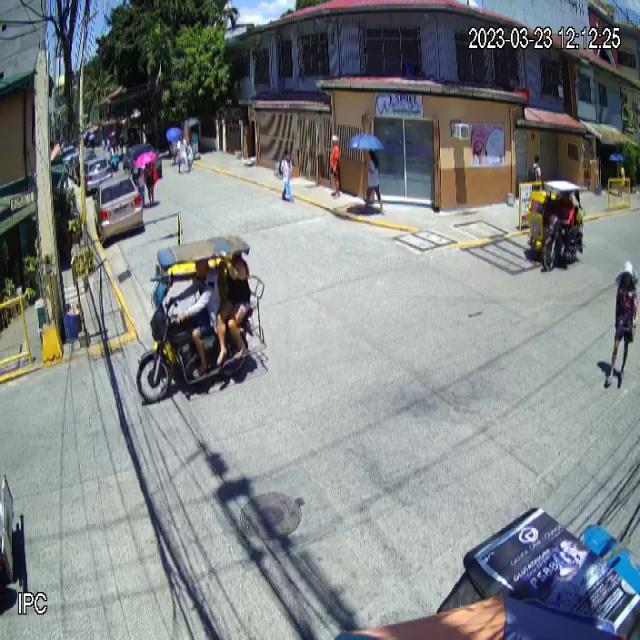Tricycle: (136, 234, 267, 404)
